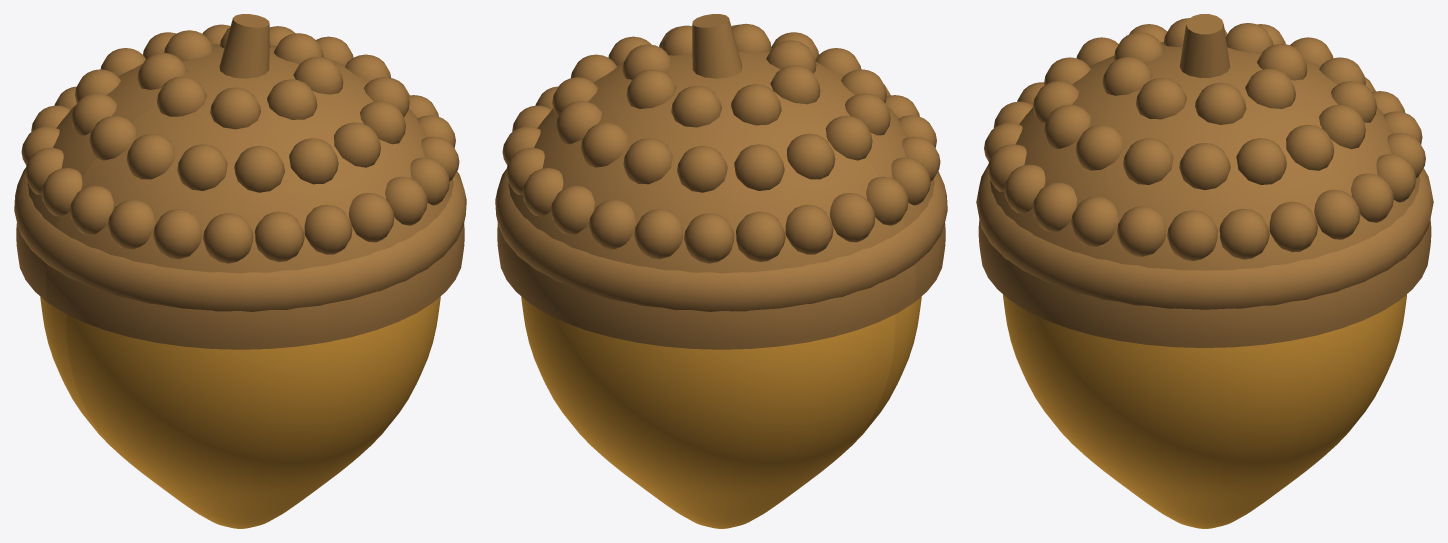
The model's file is acorn.glb.
3 renders of one model, left to right at view 1: azimuth 30°, elevation 25°; view 2: azimuth 150°, elevation 25°; view 3: azimuth 270°, elevation 25°, orthographic.
Parts seen in each view (by area): view 1: Chibi_Acorn, Acorn_Nut, Acorn_Cupule; view 2: Chibi_Acorn, Acorn_Nut, Acorn_Cupule; view 3: Chibi_Acorn, Acorn_Nut, Acorn_Cupule.
Boxes of the visible parts, bbox=[...] form: Chibi_Acorn: bbox=[14, 14, 466, 311]; Acorn_Nut: bbox=[40, 296, 440, 528]; Acorn_Cupule: bbox=[16, 44, 464, 349]; Chibi_Acorn: bbox=[495, 14, 947, 311]; Acorn_Nut: bbox=[521, 296, 921, 528]; Acorn_Cupule: bbox=[497, 48, 945, 349]; Chibi_Acorn: bbox=[976, 14, 1433, 309]; Acorn_Nut: bbox=[1003, 294, 1406, 528]; Acorn_Cupule: bbox=[978, 42, 1431, 347].
Bounding box in the file's own units: 1.94 × 2.38 × 1.94.
